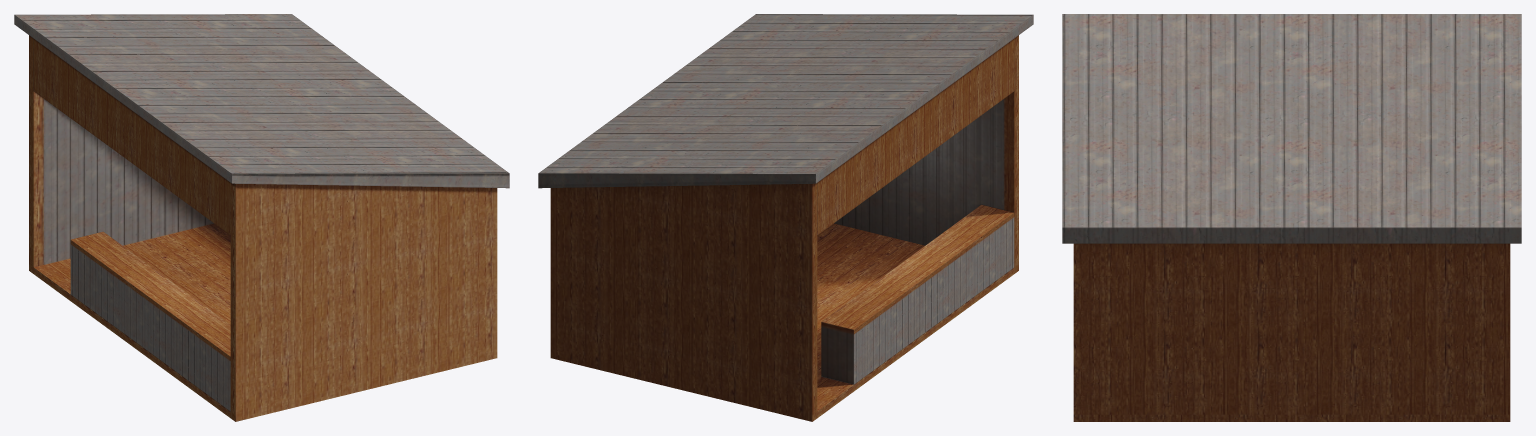
Rendered from shack_style_restaurant_shop_or_booth.glb.
3 renders of one model, left to right at view 1: azimuth 30°, elevation 25°; view 2: azimuth 150°, elevation 25°; view 3: azimuth 270°, elevation 25°, orthographic. The views are drawn at different scales.
Visible parts, largest first — view 1: Shack-1.001_Baked_0; view 2: Shack-1.001_Baked_0; view 3: Shack-1.001_Baked_0.
Boxes of the visible parts, x1=… form: Shack-1.001_Baked_0: x1=14, y1=14, x2=509, y2=421; Shack-1.001_Baked_0: x1=538, y1=14, x2=1033, y2=421; Shack-1.001_Baked_0: x1=1062, y1=14, x2=1521, y2=421.
Bounding box in the file's own units: 10.6 × 9.28 × 14.4.
Materials: 1 (1 with a texture image).
